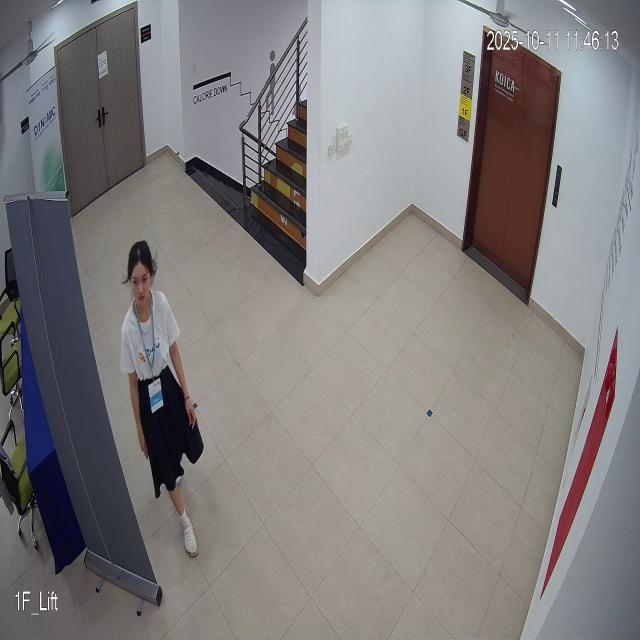face: (125, 231, 154, 311)
